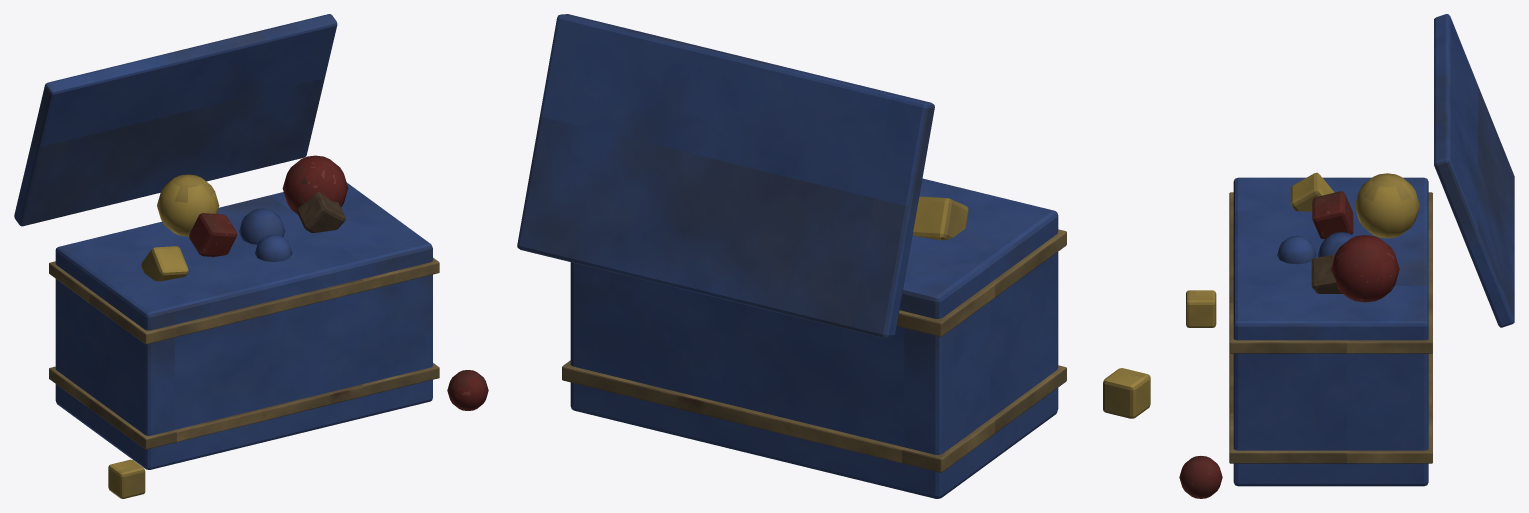
The model's file is B08_toy_chest_v2.glb.
The picture shows the model from 3 angles, left to right: view 1: azimuth 30°, elevation 25°; view 2: azimuth 150°, elevation 25°; view 3: azimuth 270°, elevation 25°; orthographic projection. The views are drawn at different scales.
Visible parts, largest first — view 1: B08_toy_chest_v2; view 2: B08_toy_chest_v2; view 3: B08_toy_chest_v2.
Part boxes in pixels (x1=…): B08_toy_chest_v2: x1=14, y1=14, x2=488, y2=498; B08_toy_chest_v2: x1=517, y1=14, x2=1150, y2=498; B08_toy_chest_v2: x1=1179, y1=14, x2=1514, y2=498.
Bounding box in the file's own units: 0.8 × 0.6458 × 0.5975.
Materials: 5 (5 with a texture image).
